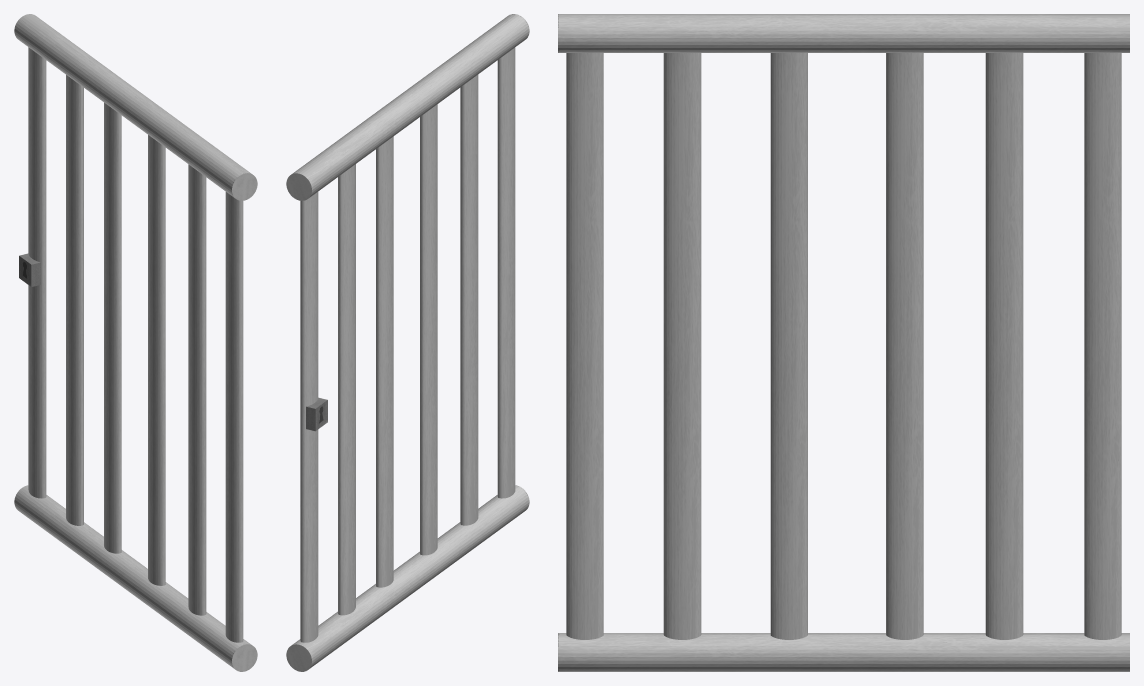
Rendered from Door.fbx.
3 views of the same model, side by side, from view 1: azimuth 30°, elevation 25°; view 2: azimuth 150°, elevation 25°; view 3: azimuth 270°, elevation 25° (orthographic). The views are drawn at different scales.
Parts seen in each view (by area): view 1: Cylinder.003, Cylinder.002, Cylinder.005, Cylinder.001, Cylinder.004, Cylinder.007, Cylinder.006, Cylinder, Cube; view 2: Cylinder.003, Cylinder.005, Cylinder.002, Cylinder.001, Cylinder.006, Cylinder.007, Cylinder.004, Cylinder, Cube; view 3: Cylinder.004, Cylinder.005, Cylinder.003, Cylinder.002, Cylinder.007, Cylinder.001, Cylinder.006, Cylinder.
Boxes of the visible parts, bbox=[...] form: Cylinder.003: bbox=[14, 14, 257, 200]; Cylinder.002: bbox=[225, 192, 243, 642]; Cylinder.005: bbox=[188, 164, 206, 615]; Cylinder.001: bbox=[28, 47, 46, 498]; Cylinder.004: bbox=[66, 75, 83, 525]; Cylinder.007: bbox=[104, 102, 121, 553]; Cylinder.006: bbox=[148, 135, 165, 585]; Cylinder: bbox=[14, 485, 257, 671]; Cube: bbox=[19, 253, 40, 286]; Cylinder.003: bbox=[286, 14, 529, 200]; Cylinder.005: bbox=[460, 74, 478, 525]; Cylinder.002: bbox=[497, 47, 515, 498]; Cylinder.001: bbox=[300, 192, 318, 642]; Cylinder.006: bbox=[420, 104, 437, 555]; Cylinder.007: bbox=[376, 136, 393, 587]; Cylinder.004: bbox=[338, 164, 355, 615]; Cylinder: bbox=[286, 485, 529, 671]; Cube: bbox=[306, 397, 327, 431]; Cylinder.004: bbox=[985, 53, 1023, 639]; Cylinder.005: bbox=[663, 53, 701, 639]; Cylinder.003: bbox=[558, 14, 1129, 52]; Cylinder.002: bbox=[566, 53, 603, 639]; Cylinder.007: bbox=[886, 53, 923, 639]; Cylinder.001: bbox=[1084, 53, 1121, 639]; Cylinder.006: bbox=[770, 53, 807, 639]; Cylinder: bbox=[558, 633, 1129, 671].
Bounding box in the file's own units: 60 × 1111 × 880.
